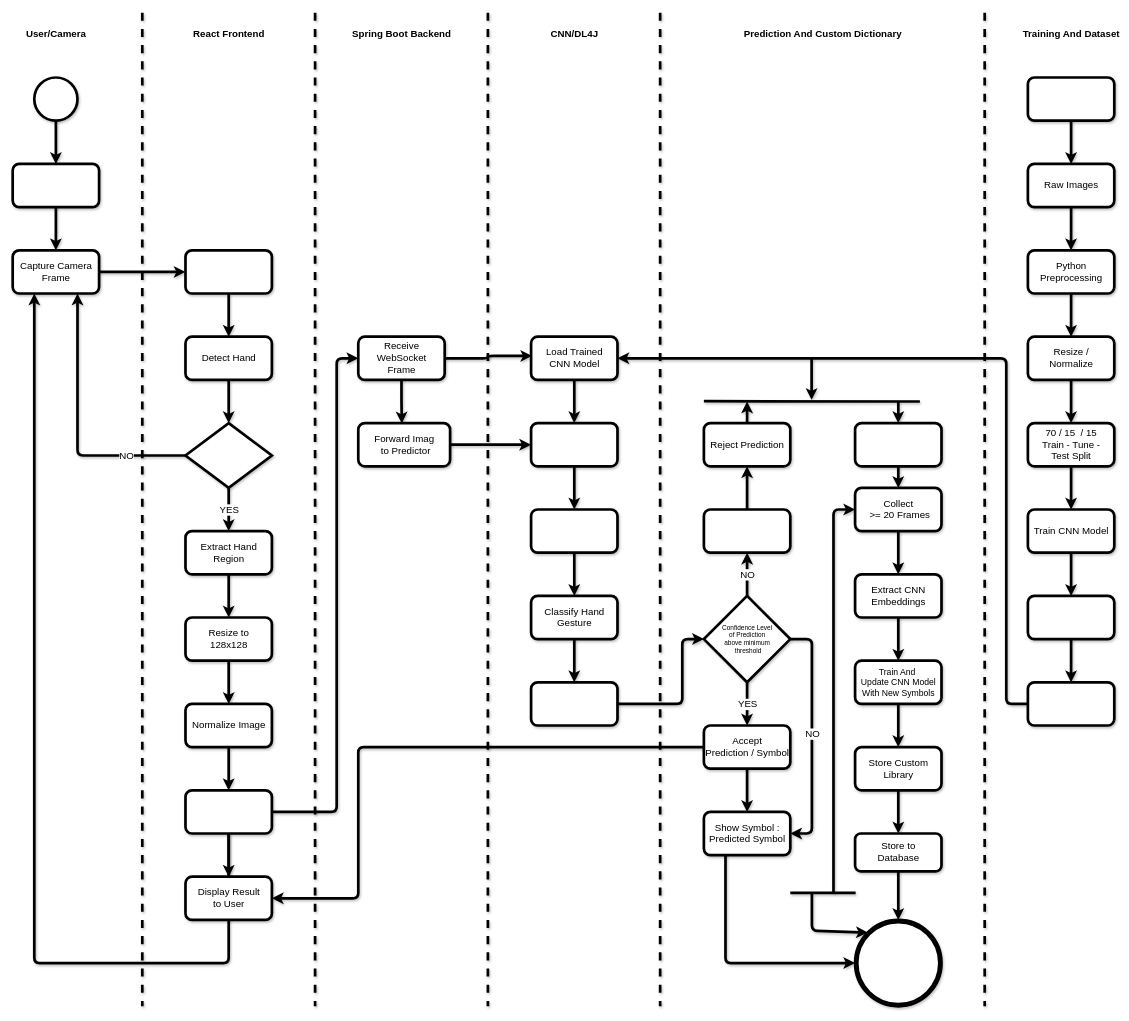
This 1129x1021 diagram has some shape labels left out. The shapes that lost their labels are listed below. From the top down, each one's centre as x and y in pixels, then its label:
At [1071,100]: "ASL - HG DataSet".
At [56,186]: "Present ASL Hand Gesture".
At [229,272]: "Receive Camera Frame".
At [229,456]: "Hand Detected?".
At [574,445]: "Process 128x128 Image".
At [898,445]: "User Add Custom Dictionary".
At [574,532]: "Extract CNN Features".
At [747,532]: "Undefined Symbol".
At [1071,618]: "Trained CNN Model".
At [574,704]: "Generate Prediction + Confidence".
At [1071,704]: "CNN Model With Labels".
At [229,812]: "Send Frame via WebSocket".
